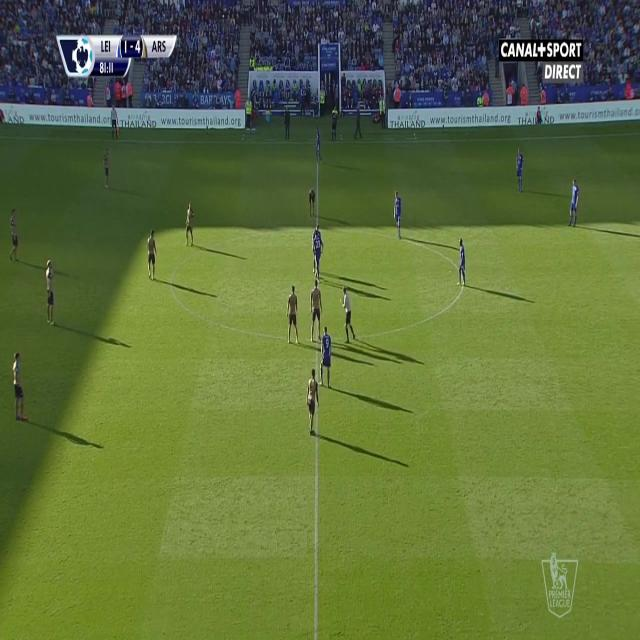Player: (10, 350, 25, 429), (308, 279, 324, 346), (285, 285, 302, 347), (319, 326, 334, 390), (306, 368, 320, 436), (568, 177, 582, 229), (45, 259, 55, 328), (184, 199, 197, 249), (312, 227, 324, 281), (146, 229, 158, 282), (10, 205, 20, 268), (392, 190, 403, 241), (102, 145, 112, 195), (515, 146, 525, 193), (457, 238, 466, 285), (313, 123, 322, 165), (308, 185, 316, 221)
Referee: (341, 286, 357, 344), (109, 104, 120, 143)
